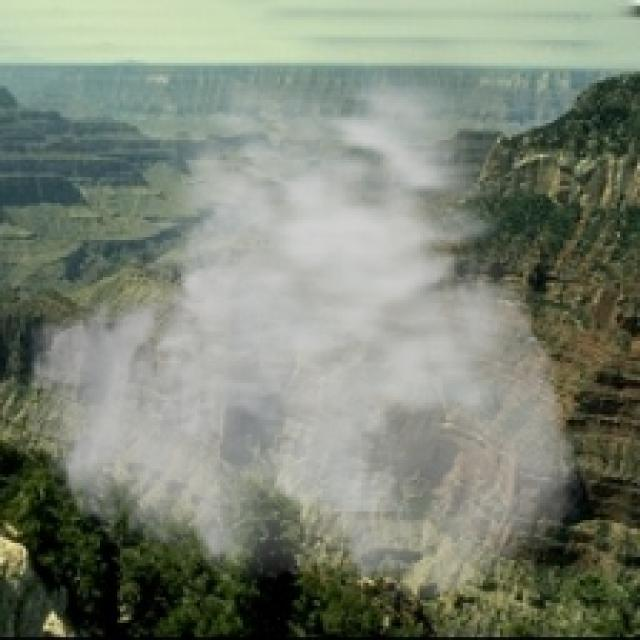smoke: (20, 40, 589, 606)
